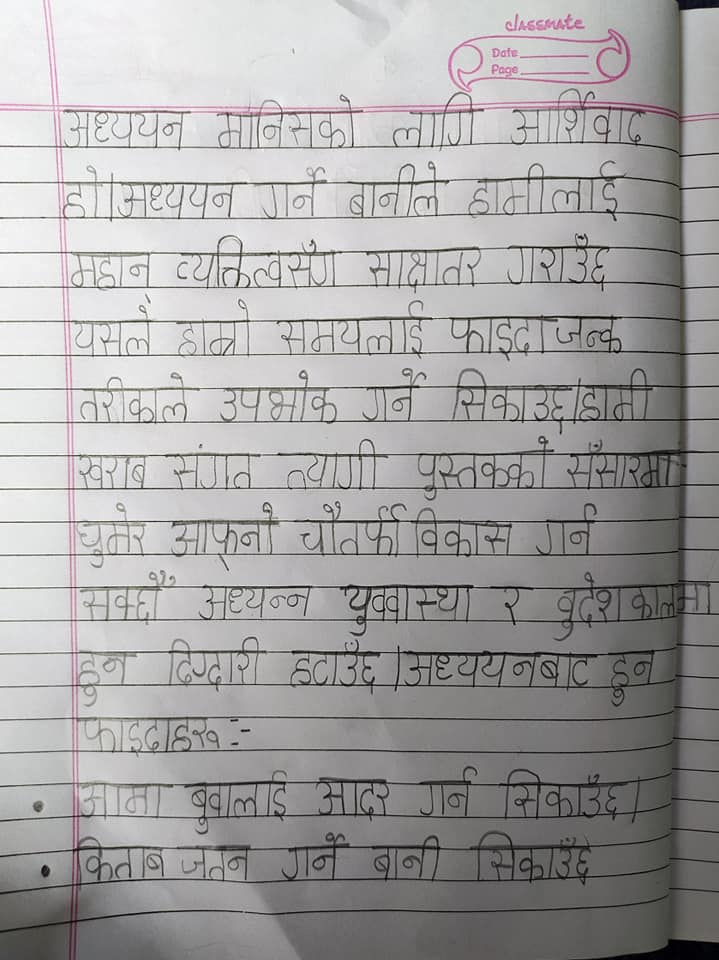text: (551, 571, 715, 642), (399, 639, 601, 695), (440, 306, 626, 359), (171, 231, 340, 289), (464, 162, 629, 221), (414, 430, 552, 499), (215, 93, 367, 153), (505, 86, 652, 148), (273, 300, 429, 358), (337, 577, 476, 640), (445, 365, 573, 431), (496, 761, 627, 823), (71, 709, 226, 758), (292, 498, 407, 564), (465, 831, 598, 887), (165, 505, 287, 565), (189, 767, 292, 836), (561, 439, 682, 496), (71, 371, 198, 424), (218, 368, 340, 423), (58, 105, 192, 155), (352, 245, 486, 295), (502, 231, 617, 289), (276, 437, 387, 495), (159, 631, 268, 690), (408, 505, 517, 559), (62, 833, 170, 887), (348, 162, 445, 220), (115, 175, 245, 218), (389, 90, 484, 148), (289, 640, 384, 696), (171, 298, 259, 358), (67, 503, 149, 565), (165, 440, 262, 492), (190, 580, 320, 617), (74, 777, 176, 824), (64, 245, 157, 296), (74, 575, 179, 620), (312, 770, 393, 824), (367, 834, 449, 886), (73, 305, 158, 355), (280, 828, 354, 883), (534, 502, 604, 559), (417, 762, 480, 824), (170, 840, 258, 884), (73, 648, 137, 706), (580, 370, 657, 418), (258, 164, 327, 217), (68, 448, 155, 490), (357, 368, 426, 420), (604, 646, 658, 708), (61, 162, 105, 218), (486, 580, 534, 627)
